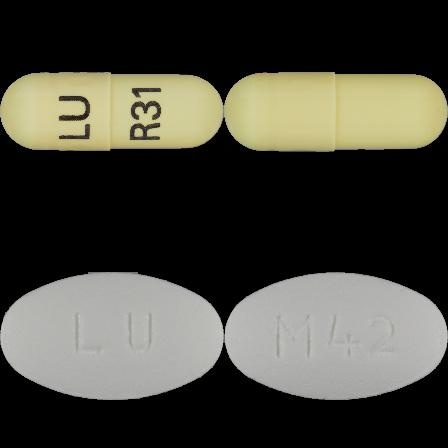68180-185: (0, 0, 224, 224)
